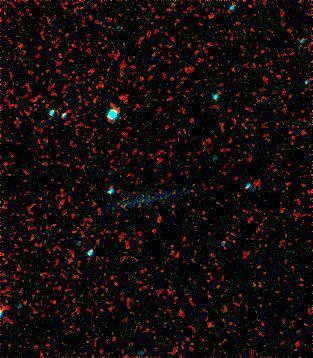star: (144, 204, 174, 234)
